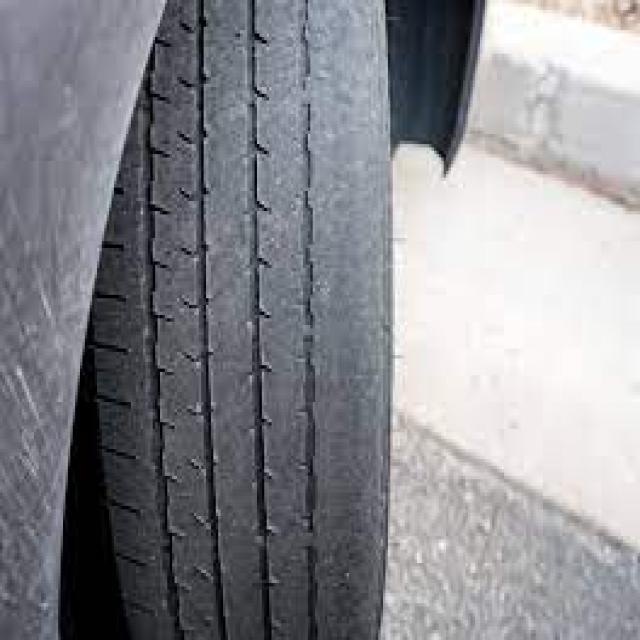Flat spots: (268, 3, 390, 639)
Non-defective: (133, 82, 235, 639)
